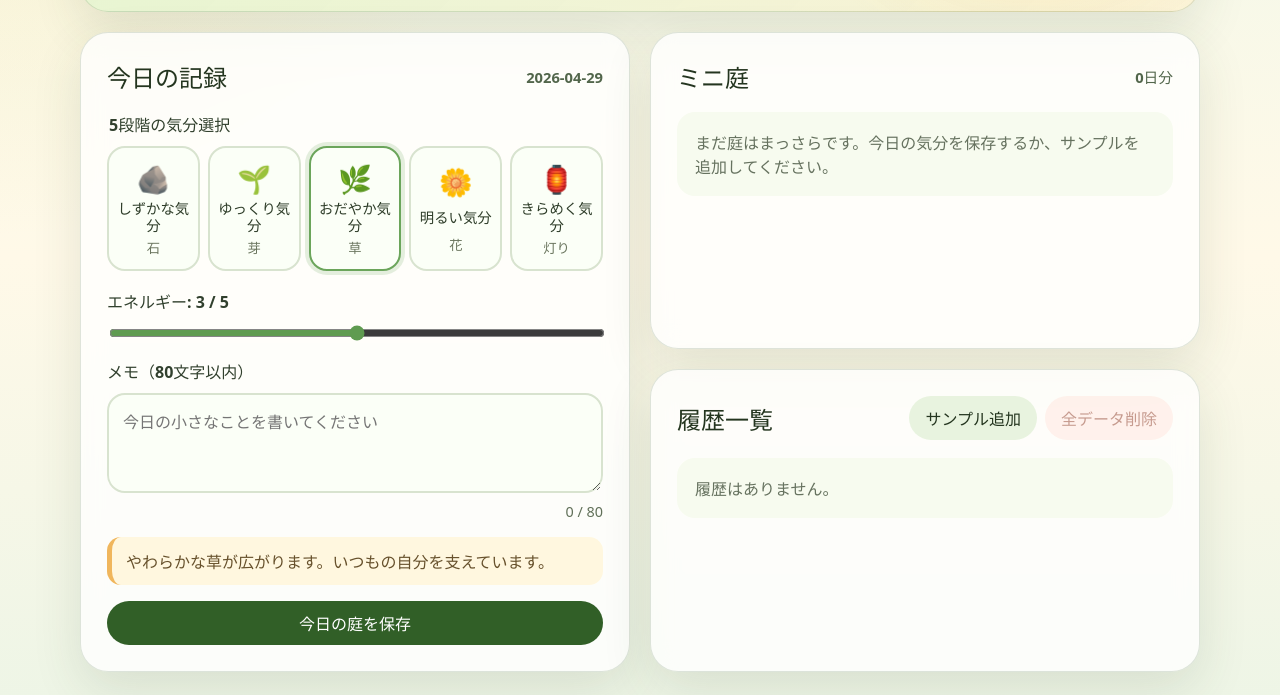
Test: 気分で育つミニ庭 › 破損JSONやlocalStorageエラーに耐える
The width and height of the screenshot is (1280, 695).
(page scrolled)
Click the button "今日の庭を保存" at (355, 623), box [107, 601, 603, 645]
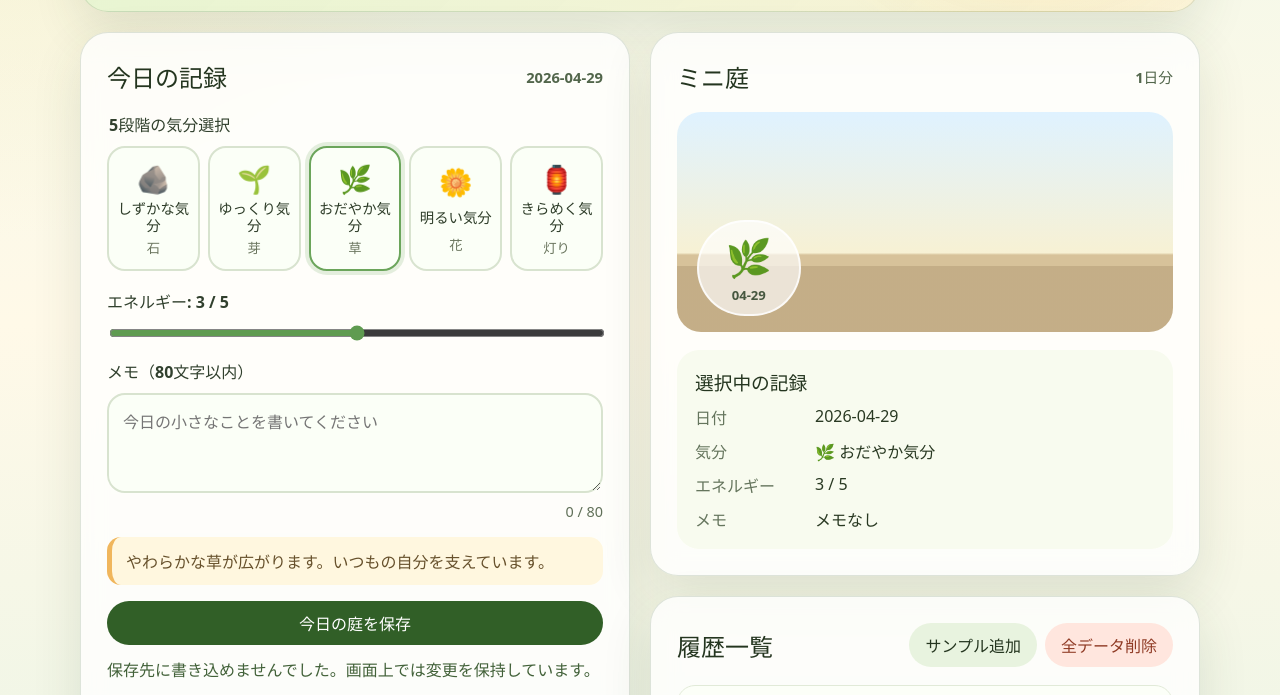
Expected: the message shows "保存先に書き込めませんでした", [107, 659, 600, 681]
Expected: the text "1日分" is shown, [1135, 66, 1173, 87]
